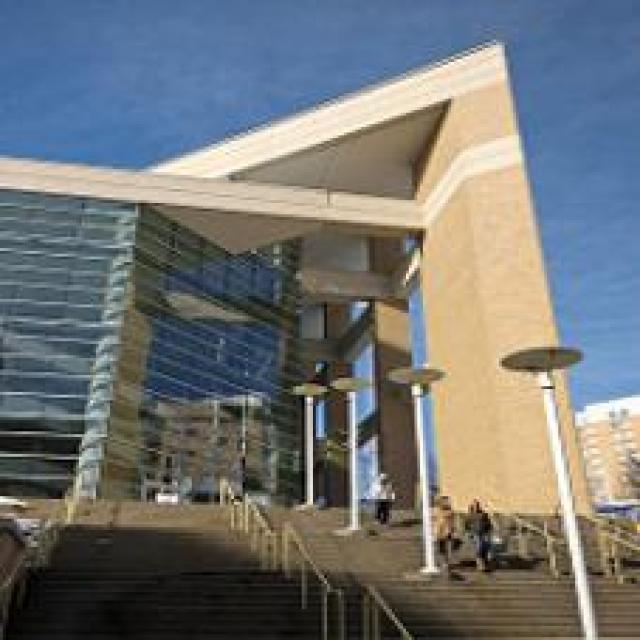stair: (28, 480, 612, 618)
